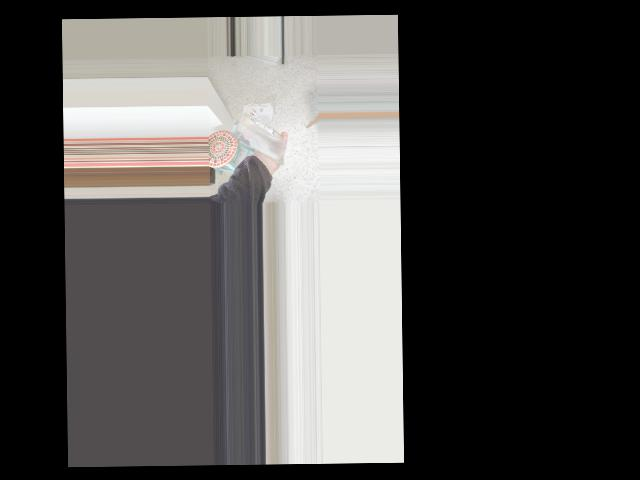cheese: (214, 97, 291, 170)
